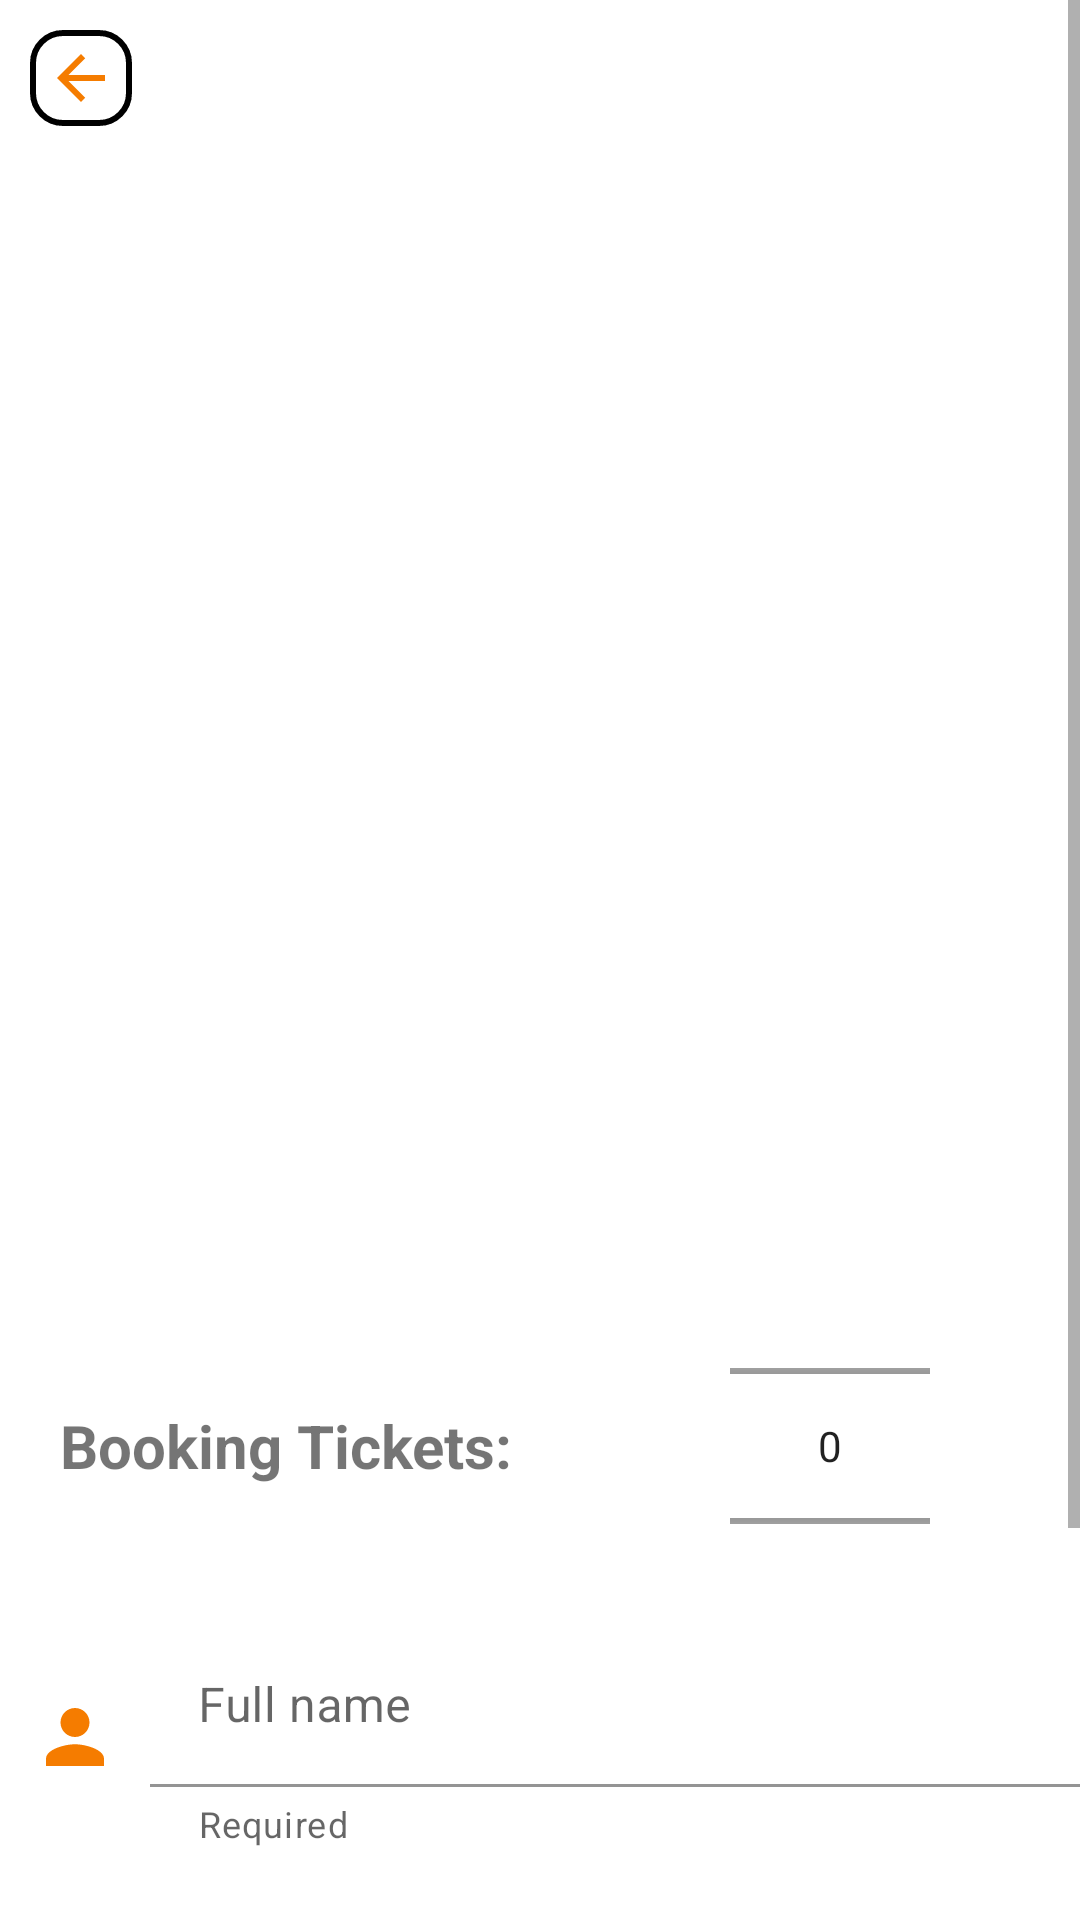

Icon bounding boxes for this 1080px x 1920px phone screenshot, format bbox=(x1, y1, x2, y2):
arrow back: bbox=(30, 30, 132, 126)
